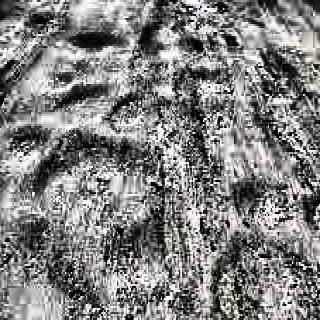pothole: (41, 131, 155, 238), (108, 88, 146, 143), (72, 24, 116, 56)
